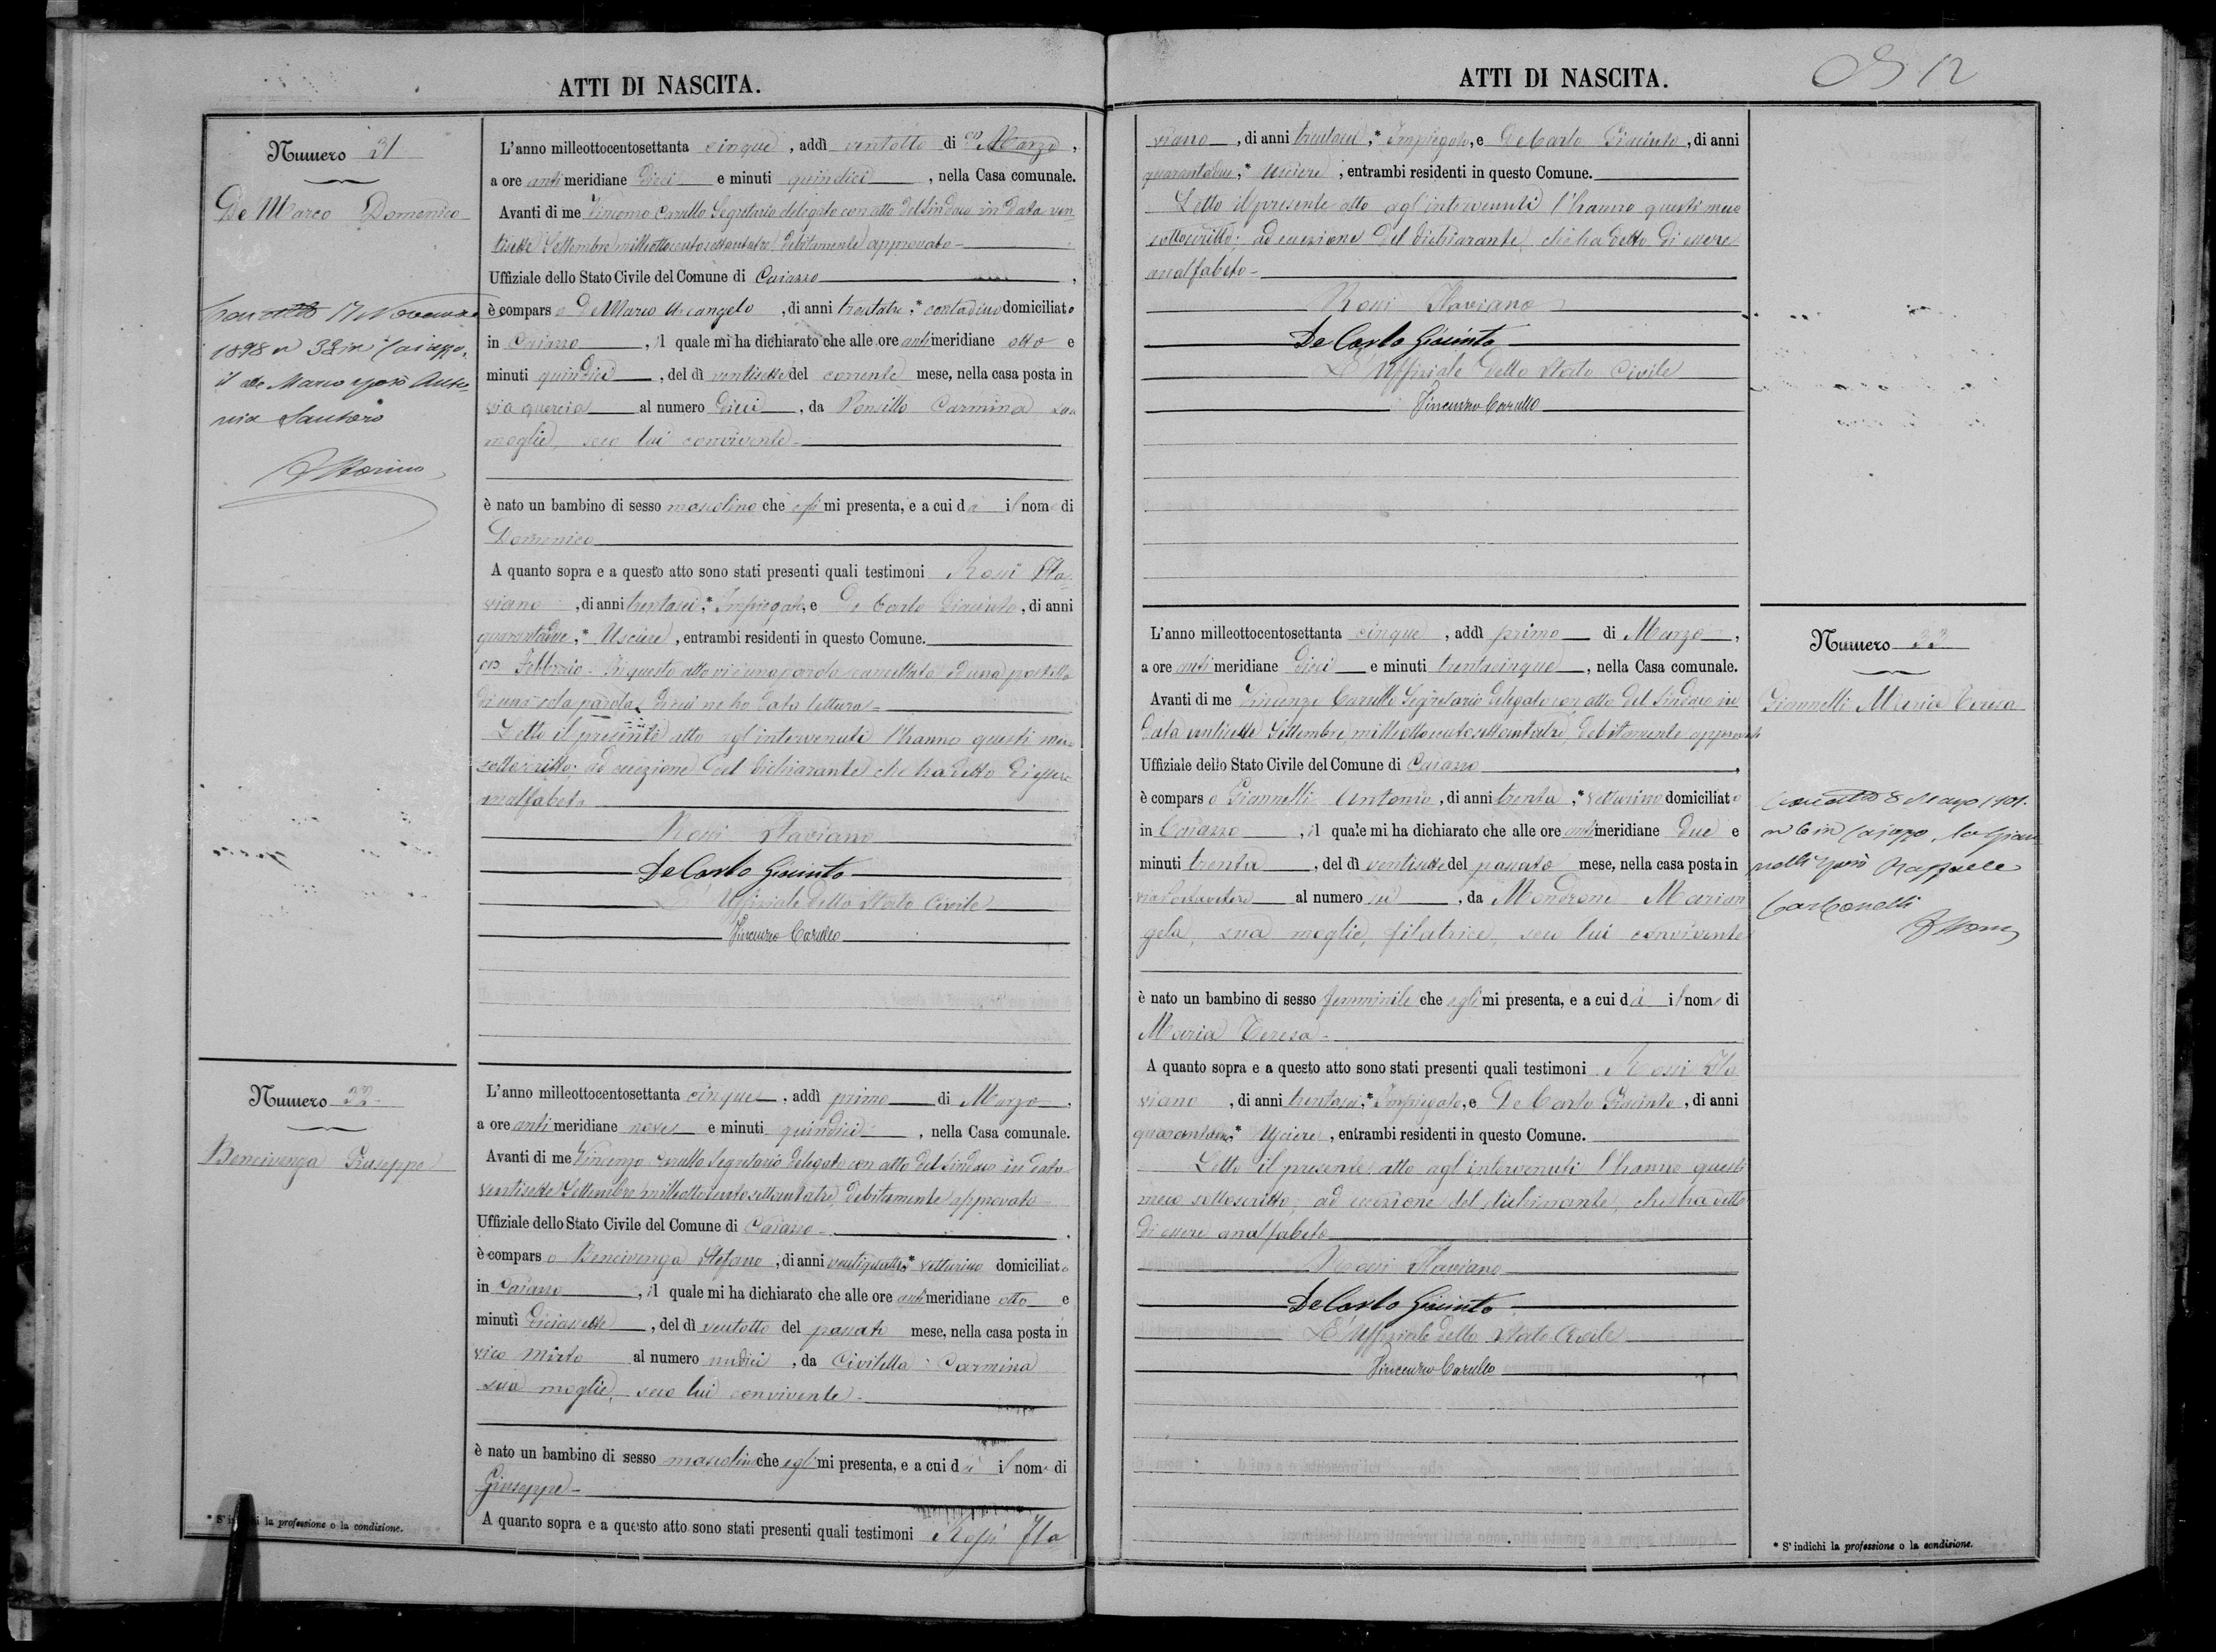Handwriting: (1136, 913, 1745, 963), (1187, 1144, 1745, 1195), (477, 755, 1072, 801), (480, 649, 1076, 693), (491, 716, 1073, 758), (1141, 713, 1764, 752), (569, 1141, 1062, 1190), (478, 1177, 1036, 1219), (1237, 676, 1743, 721), (1177, 190, 1740, 229), (584, 190, 1073, 232), (1148, 220, 1741, 250), (1310, 353, 1686, 394), (484, 1376, 867, 1412), (1135, 1183, 1747, 1206), (205, 1130, 445, 1187), (478, 687, 874, 721), (485, 418, 793, 462), (484, 231, 952, 259), (1304, 1319, 1622, 1359), (1756, 673, 2022, 720), (646, 882, 999, 917), (1282, 1281, 1523, 1327), (635, 849, 872, 896), (213, 184, 460, 227), (1306, 281, 1569, 319), (930, 1506, 1069, 1572), (546, 1241, 764, 1282), (1292, 319, 1525, 355), (1293, 1243, 1499, 1283), (1132, 1215, 1333, 1253), (651, 811, 871, 846), (556, 293, 754, 331), (1493, 1076, 1675, 1115), (463, 1465, 593, 1518), (1137, 1010, 1327, 1046), (834, 390, 1077, 417), (831, 583, 1016, 618), (1498, 117, 1679, 152), (1601, 1040, 1741, 1082), (1454, 852, 1573, 891), (1363, 1352, 1502, 1385), (833, 1348, 1038, 1371), (1409, 389, 1542, 423), (945, 547, 1070, 583), (1491, 877, 1628, 909), (1374, 1082, 1467, 1127), (728, 913, 843, 949), (713, 584, 804, 630), (1315, 981, 1421, 1020), (1144, 254, 1255, 291), (961, 124, 1060, 165), (960, 1082, 1047, 1126), (472, 619, 574, 656), (475, 785, 585, 819), (1436, 651, 1570, 678), (487, 513, 595, 547), (1130, 1120, 1234, 1153), (1207, 779, 1326, 808), (828, 1255, 984, 1277), (1135, 882, 1262, 908), (798, 1317, 890, 1353), (1480, 619, 1561, 657), (1383, 125, 1470, 160), (660, 1442, 757, 1474), (537, 354, 619, 391), (1249, 1121, 1320, 1164), (1623, 616, 1710, 651), (525, 1301, 620, 1333), (776, 1112, 864, 1147), (1141, 157, 1234, 189), (788, 162, 876, 196), (1644, 878, 1746, 907), (484, 396, 595, 419), (1335, 784, 1438, 809), (1344, 616, 1432, 645), (821, 1083, 890, 1118), (684, 1080, 762, 1111), (1184, 843, 1270, 871), (594, 620, 676, 648), (1293, 118, 1361, 151), (476, 1344, 585, 1365), (822, 355, 907, 381), (708, 359, 793, 385), (701, 127, 778, 156), (665, 491, 755, 515), (1157, 814, 1243, 839), (775, 1447, 819, 1494), (495, 1272, 565, 1301), (1261, 155, 1330, 183), (831, 135, 935, 153), (626, 586, 700, 612), (1288, 1088, 1364, 1112), (1496, 780, 1564, 807), (509, 329, 585, 353), (1405, 752, 1480, 776), (1365, 849, 1445, 871), (742, 1213, 815, 1238), (1294, 644, 1344, 679), (1152, 124, 1209, 154), (703, 1347, 773, 1371), (836, 294, 902, 318), (1588, 788, 1665, 809), (922, 298, 1002, 317), (716, 387, 767, 417), (1667, 810, 1721, 837), (1448, 983, 1485, 1023), (1910, 623, 1954, 655), (633, 163, 685, 191), (788, 489, 825, 525), (756, 264, 819, 285), (365, 132, 405, 164), (1137, 1094, 1205, 1112), (1177, 651, 1215, 679), (483, 596, 543, 614), (511, 1111, 555, 1134), (340, 1083, 380, 1108), (702, 1319, 777, 1331), (1364, 886, 1407, 906), (1008, 332, 1058, 349), (623, 1121, 682, 1135), (997, 1289, 1037, 1309), (525, 170, 560, 191), (897, 1286, 929, 1306), (897, 330, 932, 347), (1563, 820, 1594, 838), (1011, 486, 1028, 516), (1628, 991, 1647, 1008), (1734, 790, 1743, 806), (968, 502, 980, 512), (1061, 1261, 1071, 1274), (1052, 503, 1059, 516)
